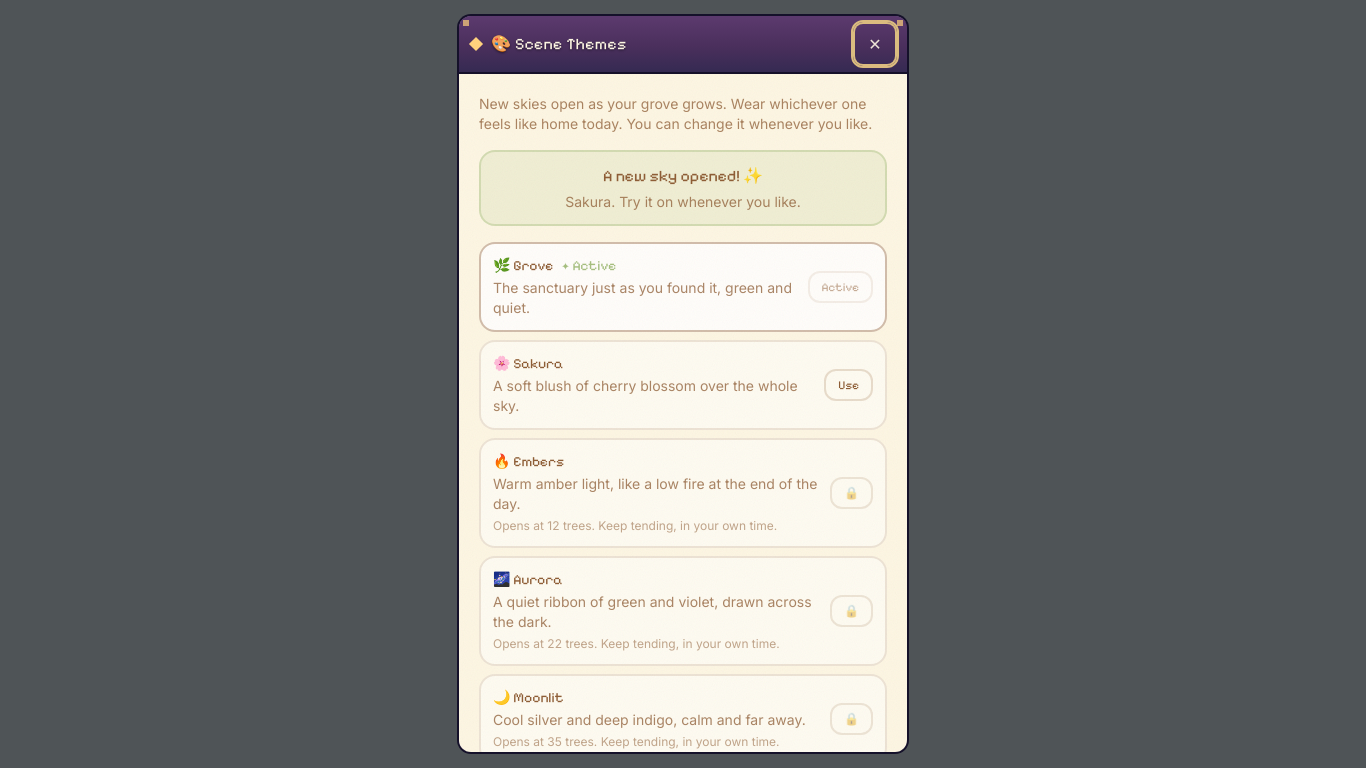
Scenario: ThemesModal › selecting an unlocked theme persists it and moves the active marker
What coordinates should you click on to do the following:
click the button with aria-label "use the sakura theme"
I would click on:
 (849, 385)
Its box is x1=824 y1=369 x2=873 y2=401.
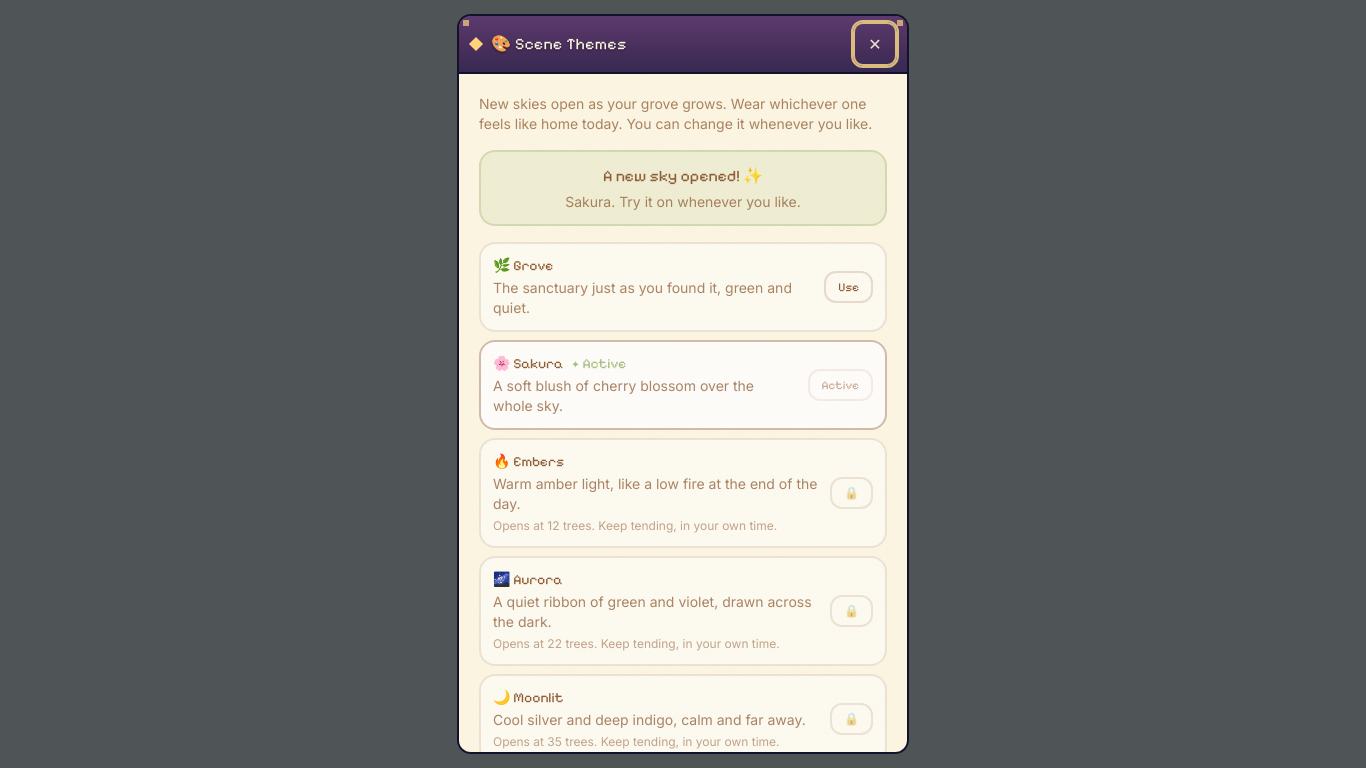
Expected: the list item "Grove" does not show "Active", x1=479 y1=242 x2=887 y2=332
Result: the list item "Sakura" shows "Active" at x1=808 y1=369 x2=873 y2=401
